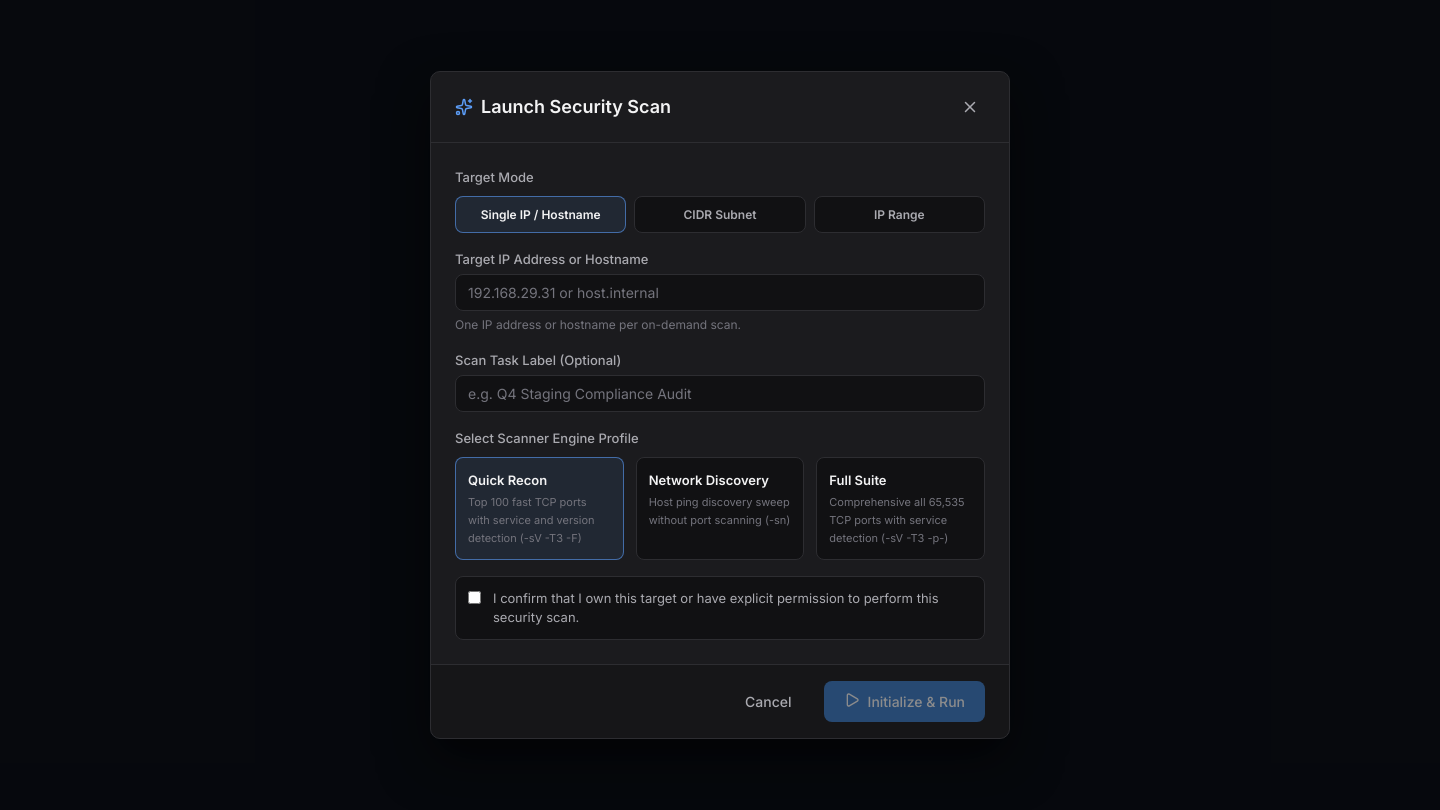
Direct scan authorization workflow › requires explicit permission confirmation and submits an on-demand target
This screenshot has width=1440, height=810.
Later steps or results of the test are not shown.
Check: the button "Initialize & Run" is disabled, box [824,681,985,722]
Type "192.168.29.31" into the field labelled "Target IP Address or Hostname" at (720, 292), box [456,275,984,310]
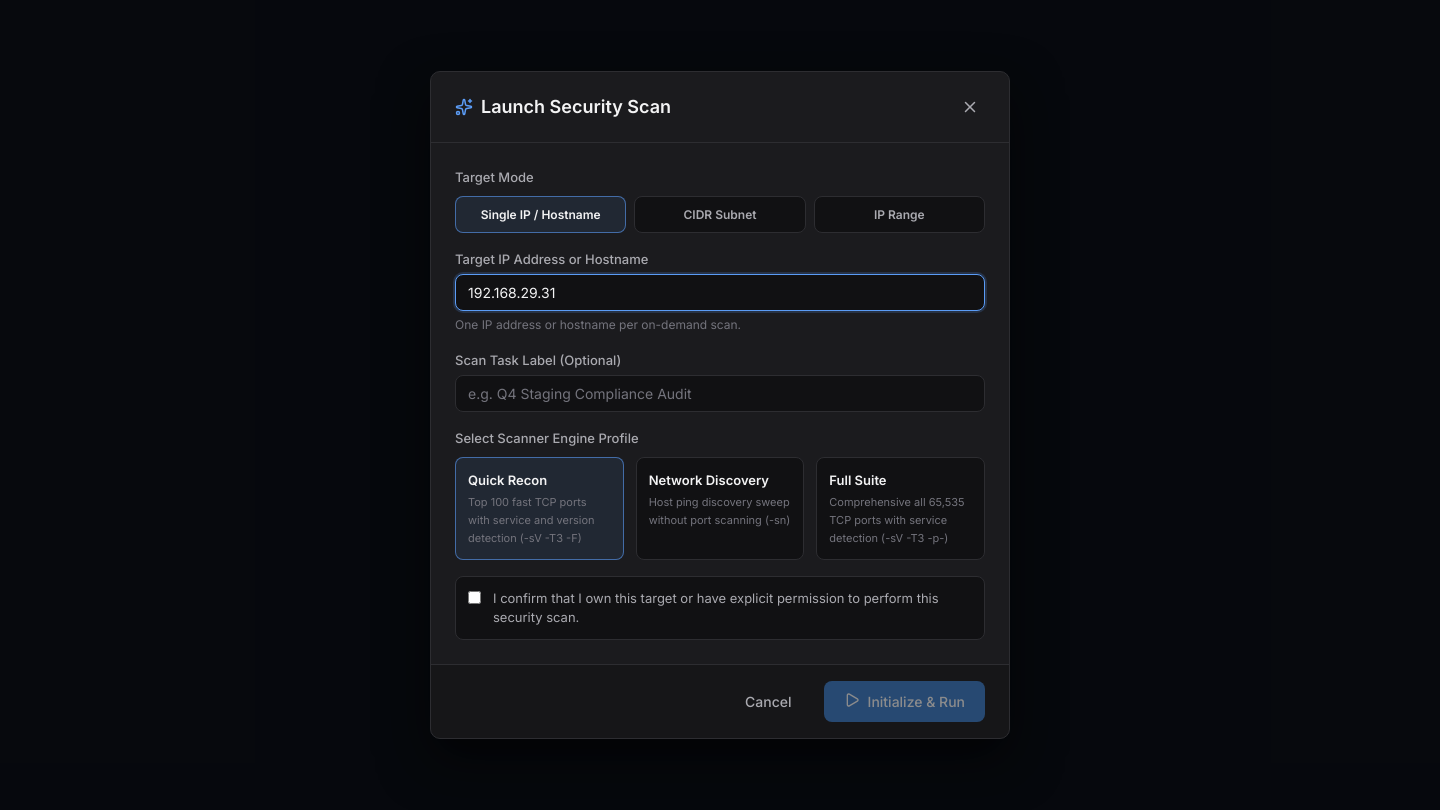
Check: the button "Initialize & Run" is disabled, box [824,681,985,722]
Click the checkbox labelled "own this target or have explicit permission" at (474, 598), box [468,591,481,604]
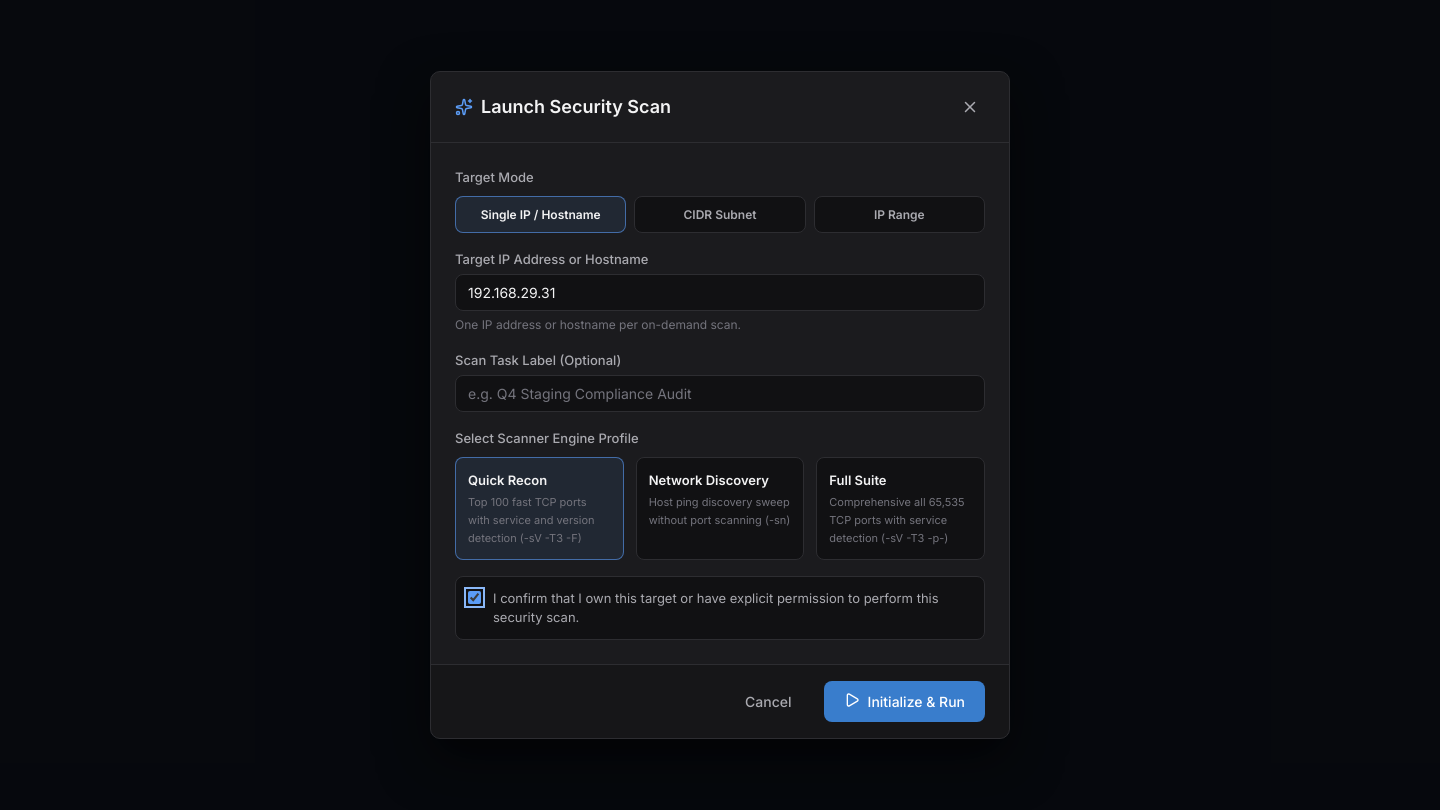
Check: the button "Initialize & Run" is enabled, box [824,681,985,722]
